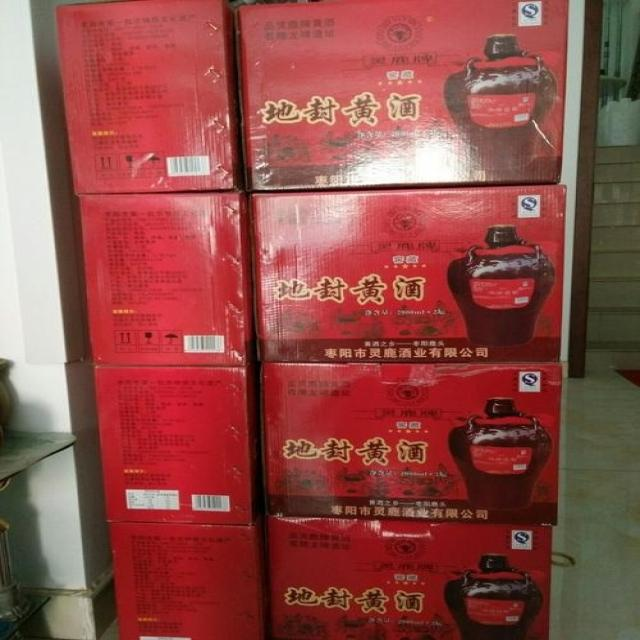box: (232, 0, 570, 191), (247, 185, 567, 363), (260, 362, 563, 527), (266, 510, 553, 640), (56, 1, 243, 194), (78, 190, 257, 366), (93, 361, 265, 526), (109, 509, 270, 640)
